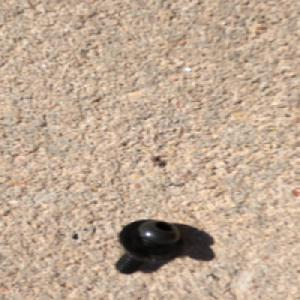BoltWasher: (113, 218, 188, 275)
